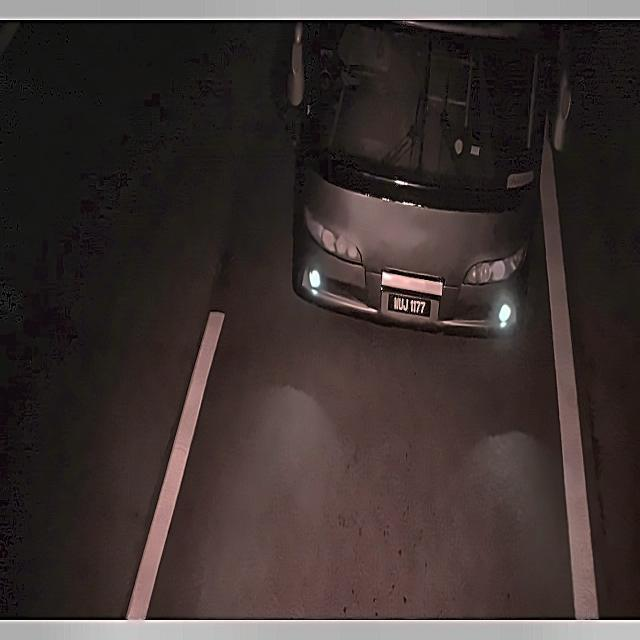car: (382, 278, 441, 330)
